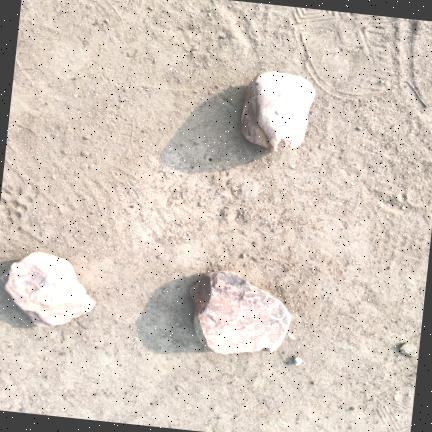Rocks: (190, 270, 289, 353), (1, 251, 94, 325), (241, 71, 314, 150), (399, 342, 417, 356), (293, 356, 301, 364)
